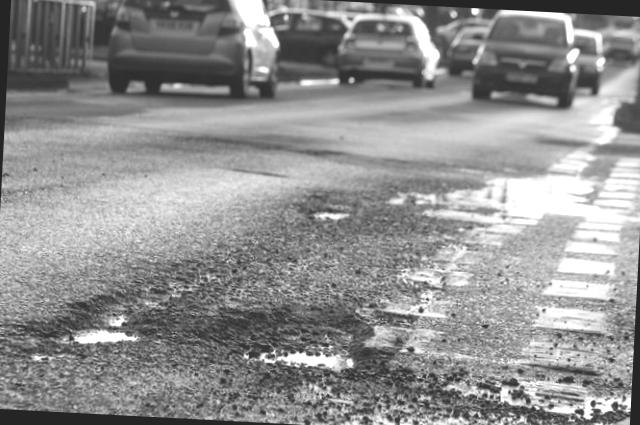Pothole: (6, 282, 623, 425), (291, 186, 359, 240)
